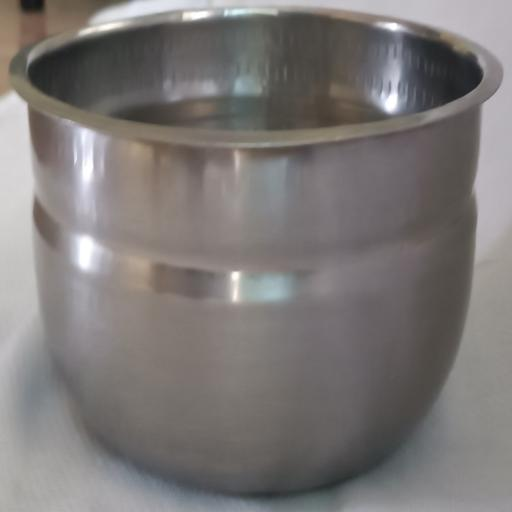vessel: (11, 8, 502, 492)
